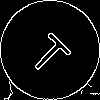T: (25, 25, 79, 79)
